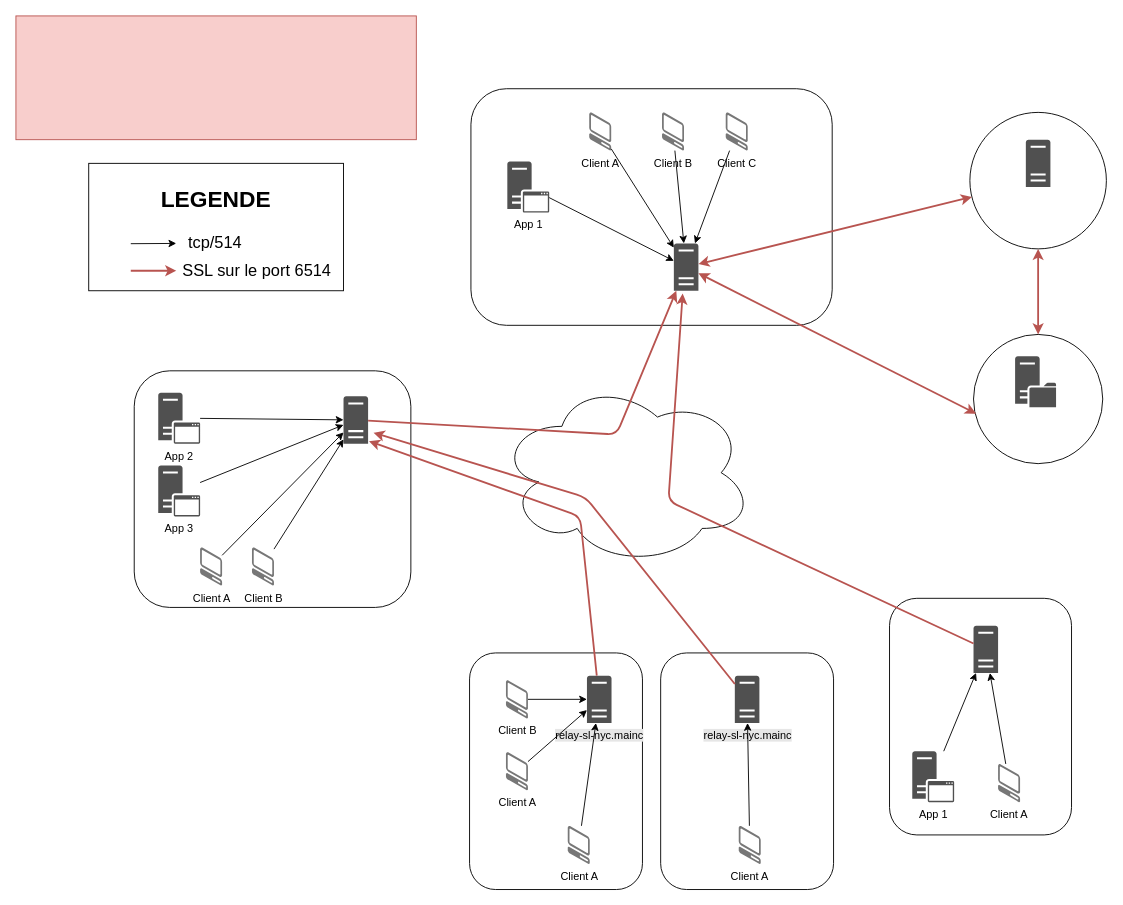
This 1123x905 diagram has some shape labels left out. Each missing label, with the centre of its shape:
relay-sa-quebec.mainc: (x=355, y=419)
relay-sa-toulouse.mainc: (x=985, y=648)
relay-sb-sat.mainc: (x=1035, y=381)
relay-sd-grenoble.mainc: (x=1037, y=163)
relay-sp-montreuil.mainc: (x=685, y=266)
Schéma de principe syslog-ng M&A Inc: (x=215, y=77)
